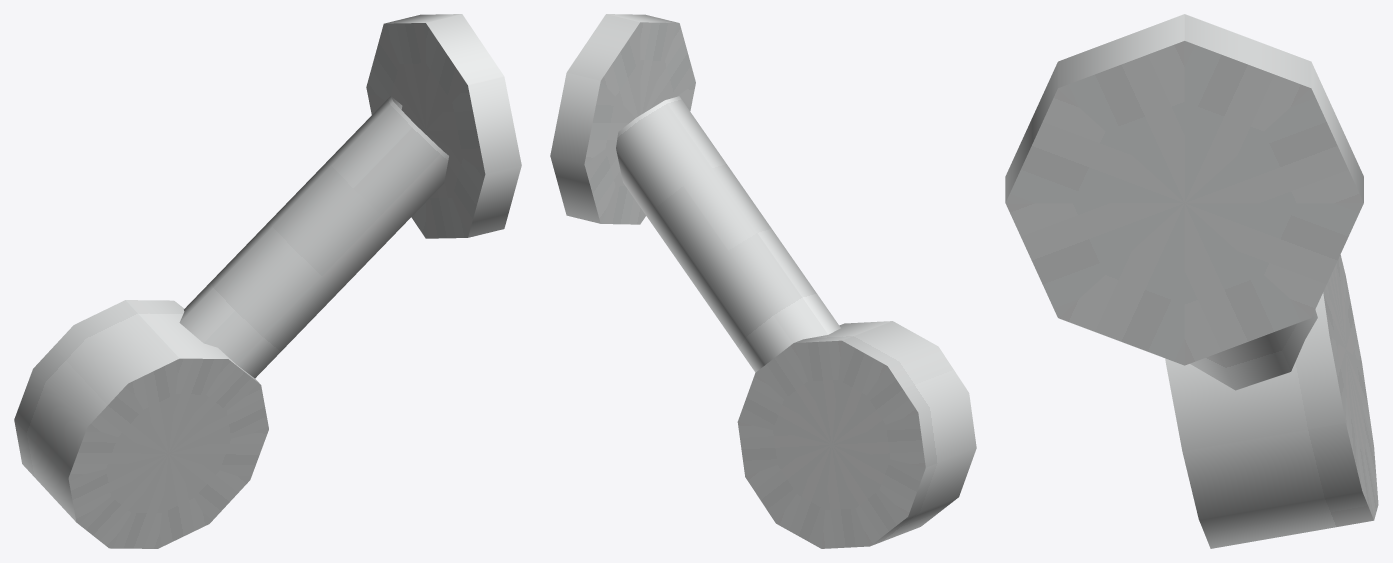
The model's file is nycsignalarm_stub_59.obj.
3 renders of one model, left to right at view 1: azimuth 30°, elevation 25°; view 2: azimuth 150°, elevation 25°; view 3: azimuth 270°, elevation 25°, orthographic. The views are drawn at different scales.
Parts seen in each view (by area): view 1: nycsignalarm_stub_59; view 2: nycsignalarm_stub_59; view 3: nycsignalarm_stub_59.
Boxes of the visible parts, x1,y1,x2,y2 form: nycsignalarm_stub_59: [14, 14, 521, 548]; nycsignalarm_stub_59: [550, 14, 976, 548]; nycsignalarm_stub_59: [1005, 14, 1378, 548].
Bounding box in the file's own units: 0.6697 × 0.7631 × 0.3642.
